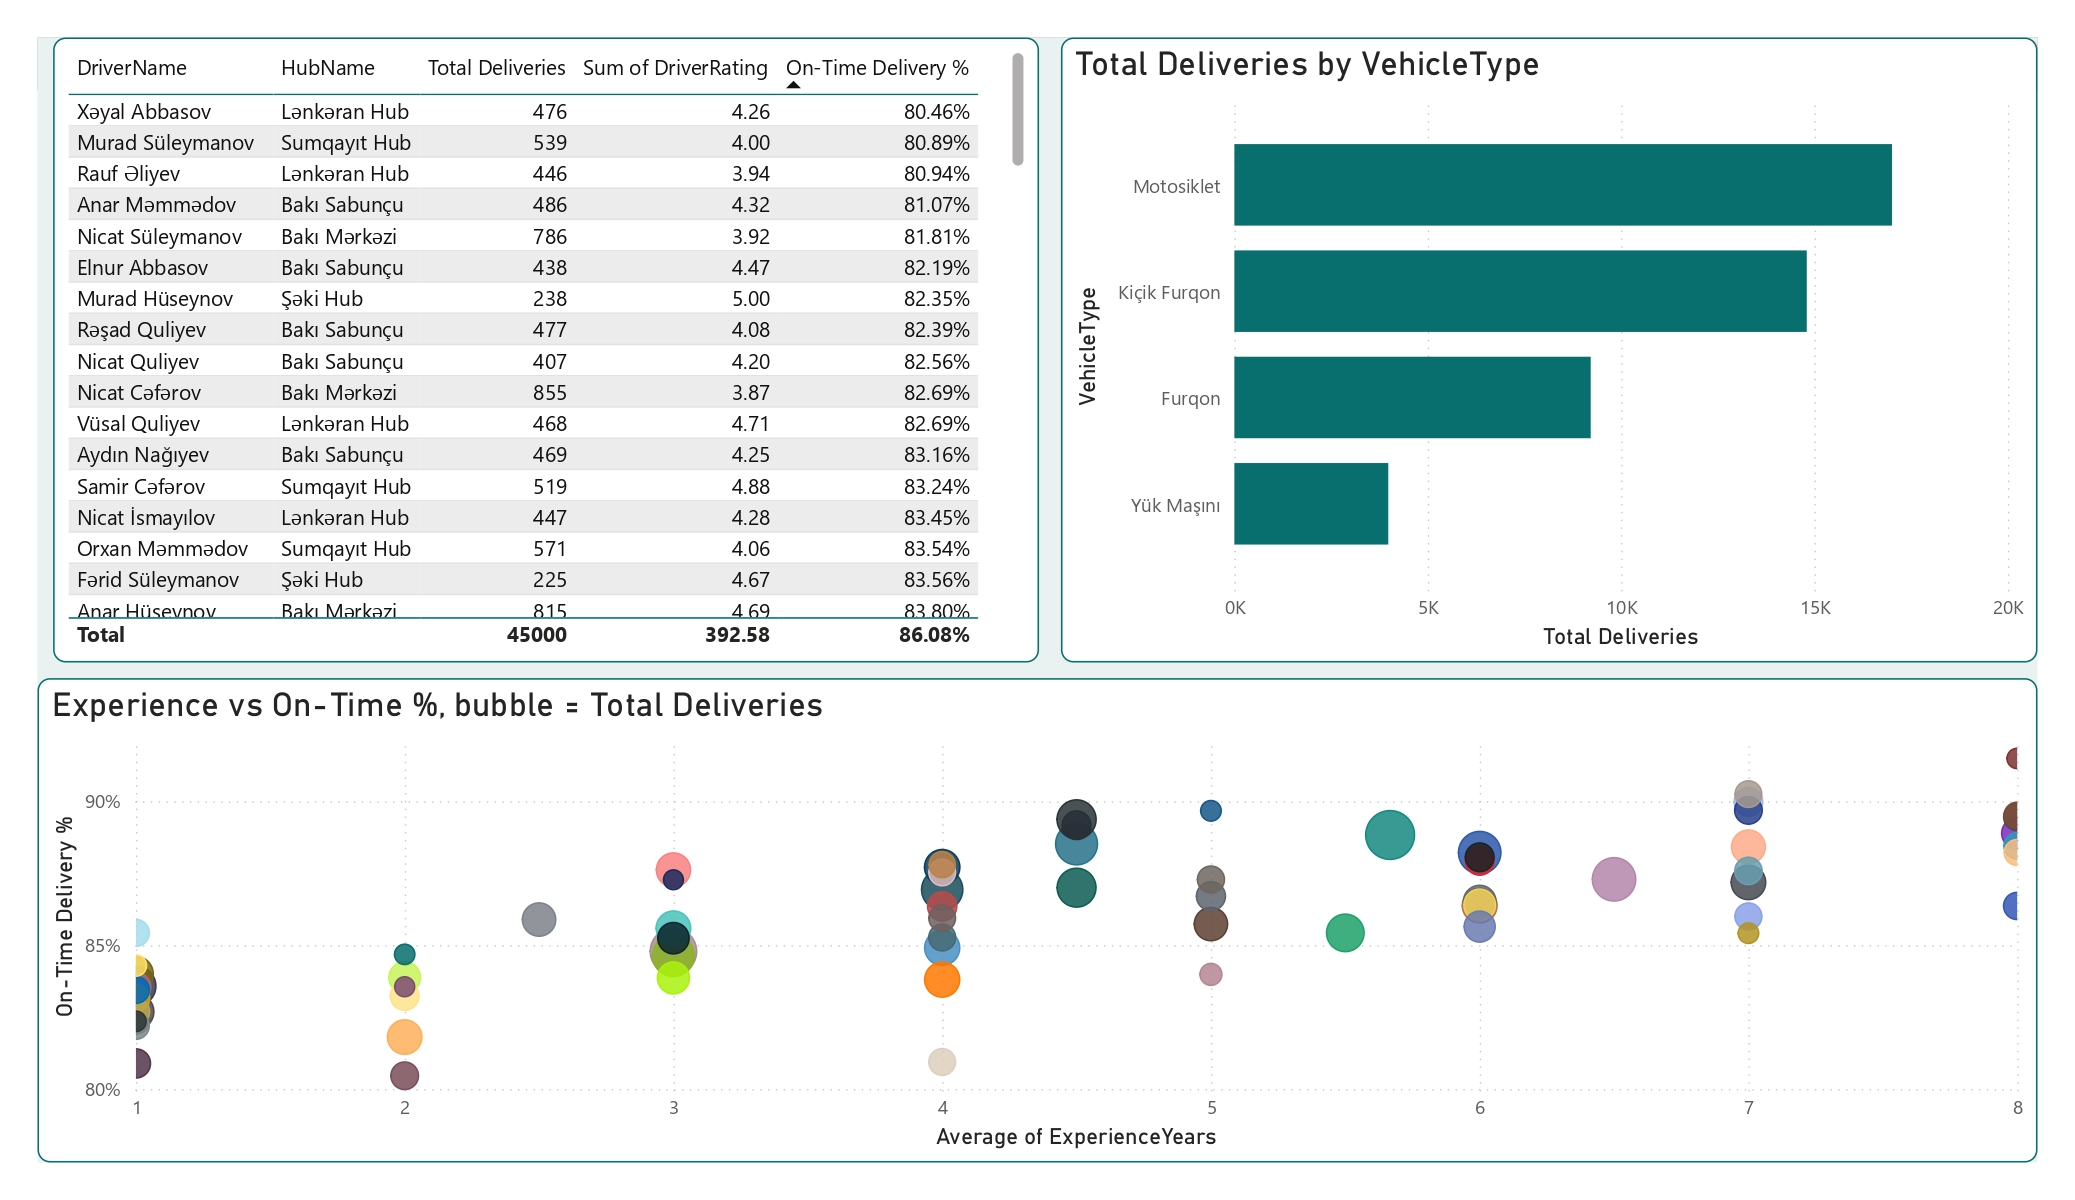

What the dashboard file says about the page in this screenshot:
{"tool":"powerbi","page":{"name":"Driver & Fleet Analysis","canvas":[1280,720],"ordinal":2},"visuals":[{"type":"tableEx","fields":{"Values":["dim_driver.DriverName","dim_hub.HubName","_Measures.Total Deliveries","Sum(dim_driver.DriverRating)","_Measures.On-Time Delivery %"]},"box":[10.1,0,630.7,400.3],"z":0},{"type":"scatterChart","title":"Experience vs On-Time %, bubble = Total Deliveries","fields":{"X":["Avg(dim_driver.ExperienceYears)"],"Size":["_Measures.Total Deliveries"],"Series":["dim_driver.DriverName"],"Y":["_Measures.On-Time Delivery %"]},"box":[0,410.4,1280.2,309.6],"z":1000},{"type":"barChart","fields":{"Category":["dim_vehicle.VehicleType"],"Y":["_Measures.Total Deliveries"]},"box":[655.2,0,625,400.3],"z":2000}]}

Visuals, with their boxes on the page's 1280x720 design canvas (x1, y1, x2, y2). These are canvas units, not pixel positions in the 2075x1200 screenshot, which may show the page scaled, cropped or inside an application window:
tableEx - dim_driver.DriverName x dim_hub.HubName: <region>10, 0, 641, 400</region>
"Experience vs On-Time %, bubble = Total Deliveries" scatterChart: <region>0, 410, 1280, 720</region>
barChart - dim_vehicle.VehicleType x _Measures.Total Deliveries: <region>655, 0, 1280, 400</region>
